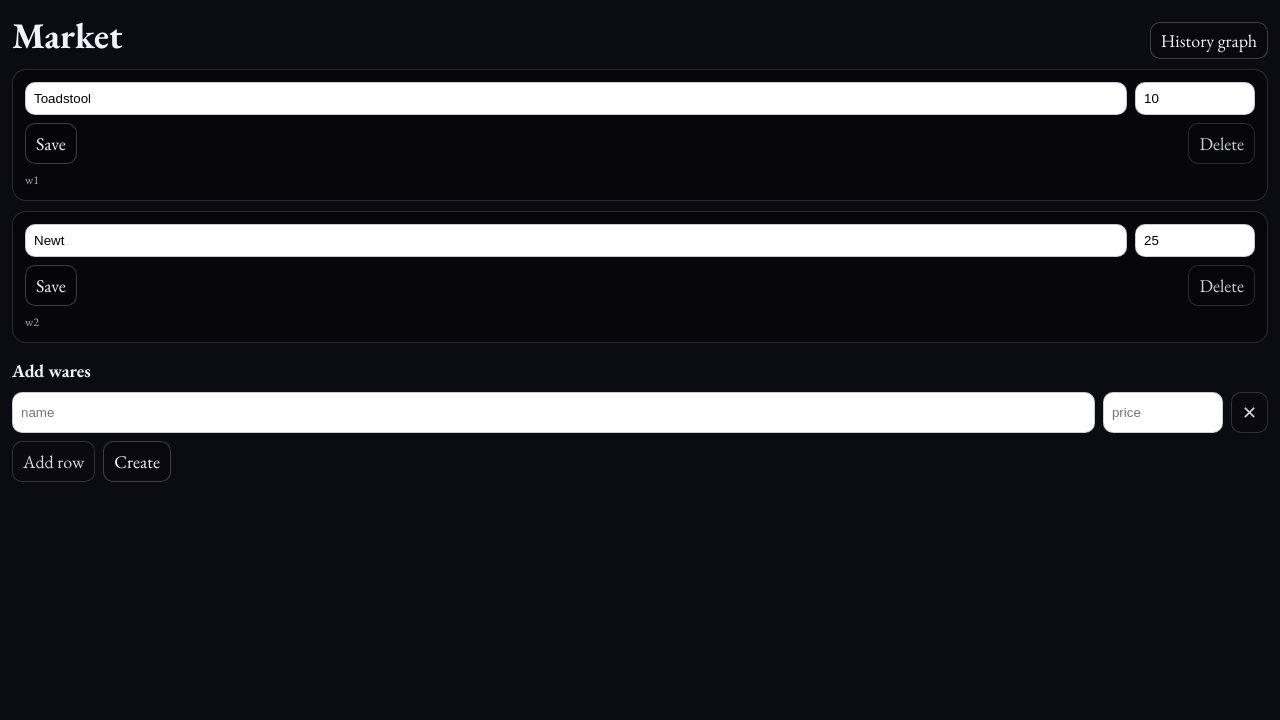
OfficeMarket › a blank price is not saved as 0
Clear the 2nd field showing "10" at (1195, 98), box 1135,82 -> 1255,115
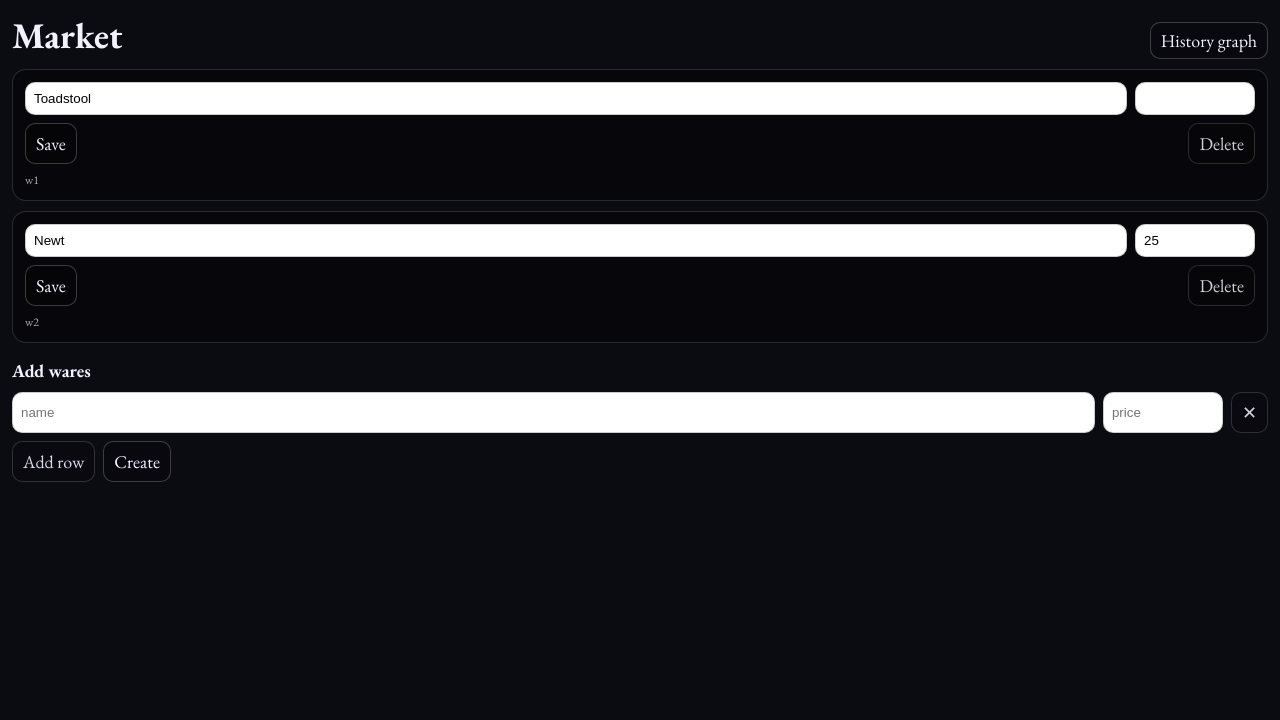
Click the 1st button "Save" at (51, 144), box 25,123 -> 77,164
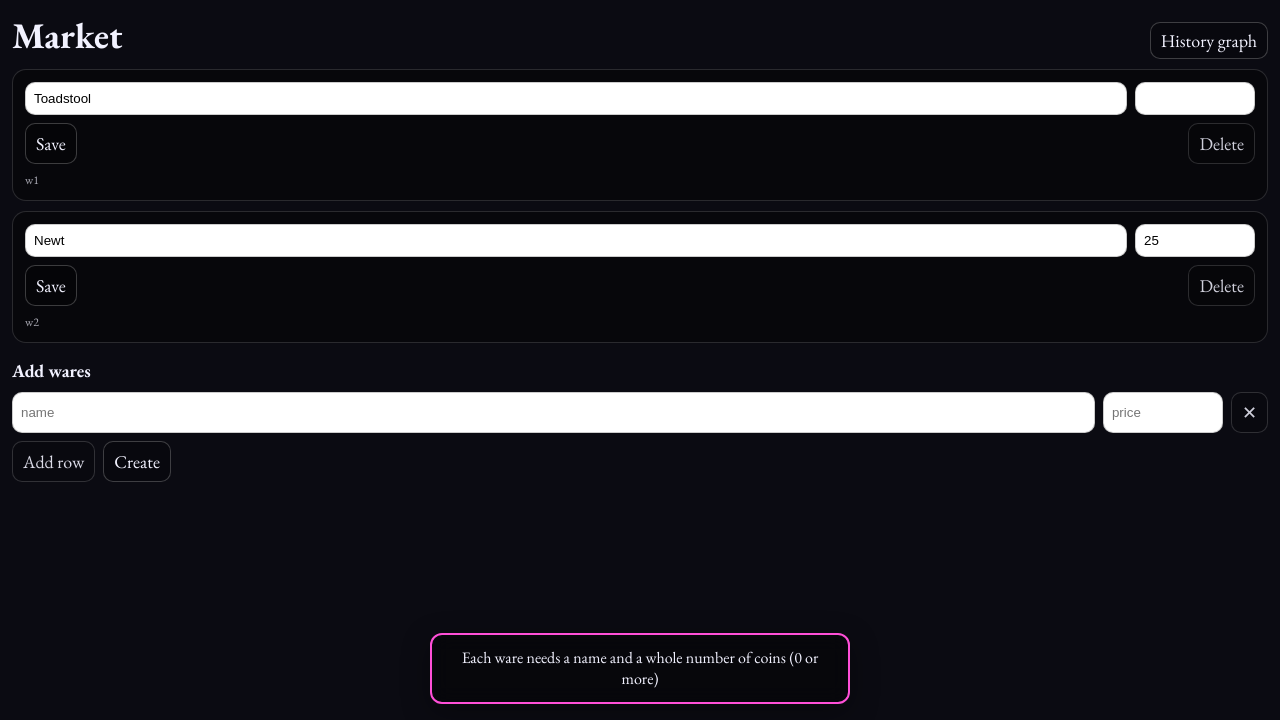
Check: the text "Each ware needs a name and a whole number of coins (0 or more)" is shown, box 430,633 -> 850,704
